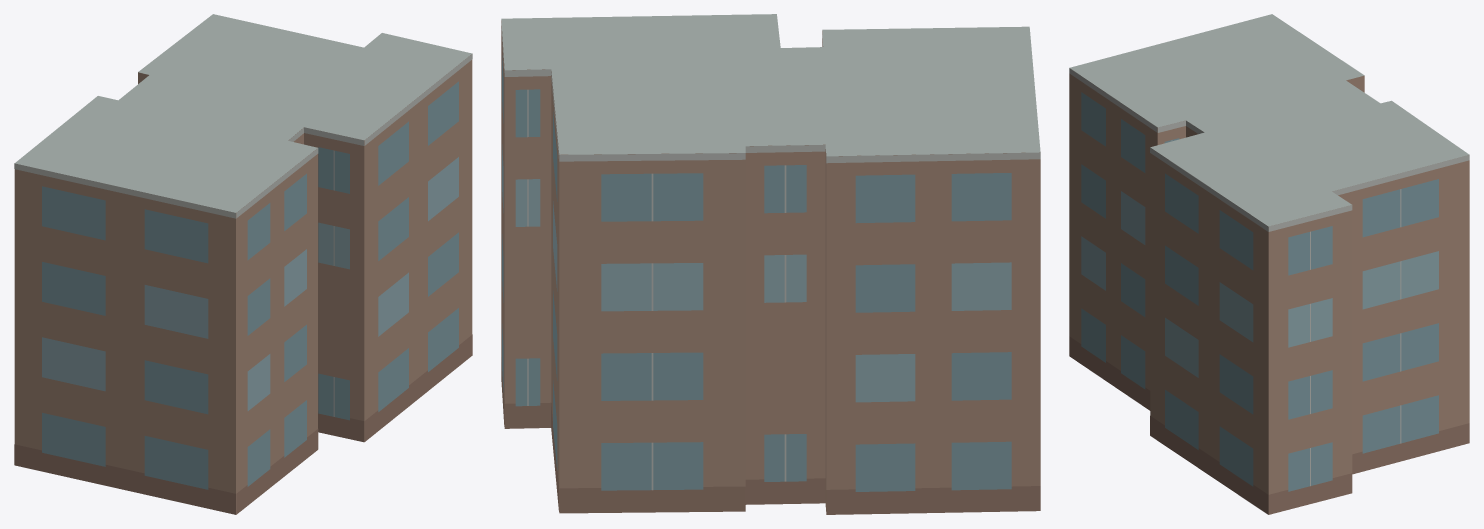
Rendered from survey-upis-32611027.glb.
3 renders of one model, left to right at view 1: azimuth 30°, elevation 25°; view 2: azimuth 150°, elevation 25°; view 3: azimuth 270°, elevation 25°, orthographic. The views are drawn at different scales.
Visible parts, largest first — view 1: survey-upis-32611027.tmp; view 2: survey-upis-32611027.tmp; view 3: survey-upis-32611027.tmp.
Boxes of the visible parts, x1,y1,x2,y2 form: survey-upis-32611027.tmp: (14,14,472,514); survey-upis-32611027.tmp: (501,14,1040,514); survey-upis-32611027.tmp: (1069,14,1469,514).
Size of the model in its own units: 20.24 by 12.8 by 16.12.
